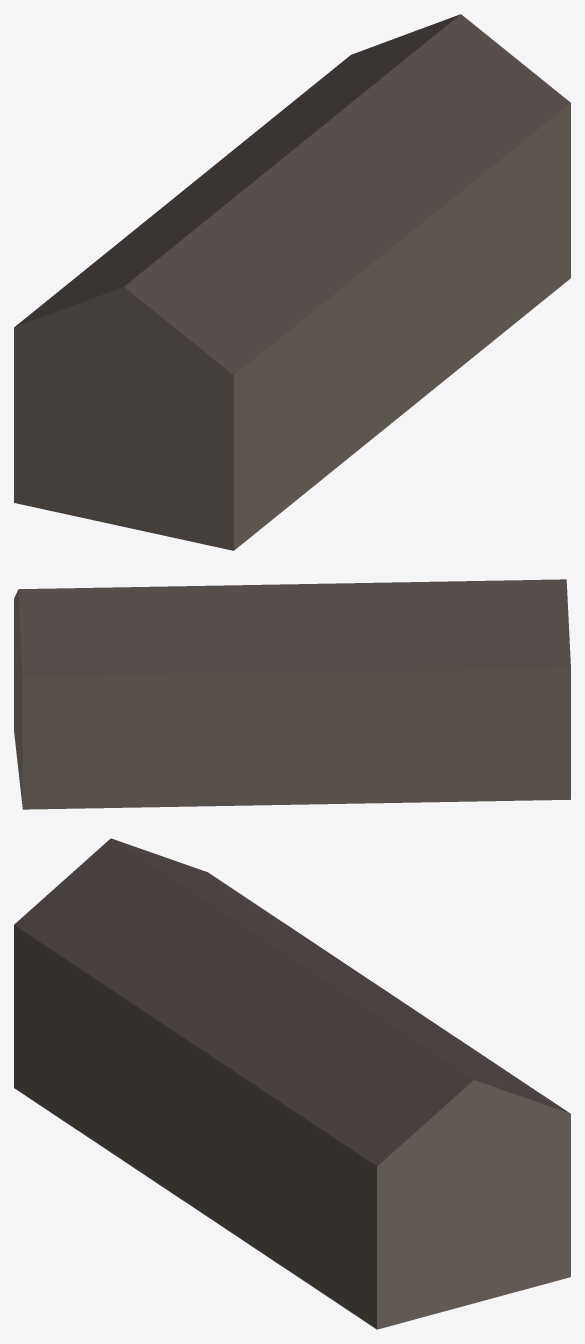
3 views of the same model, one above another, from view 1: azimuth 30°, elevation 25°; view 2: azimuth 150°, elevation 25°; view 3: azimuth 270°, elevation 25° (orthographic). The views are drawn at different scales.
Parts seen in each view (by area): view 1: HP-w369237866; view 2: HP-w369237866; view 3: HP-w369237866.
Part boxes in pixels (x1,y1,x2,y2): HP-w369237866: (14,14,570,550); HP-w369237866: (14,579,570,809); HP-w369237866: (14,838,570,1329).
Size of the model in its own units: 34.8 by 12.32 by 27.84.
